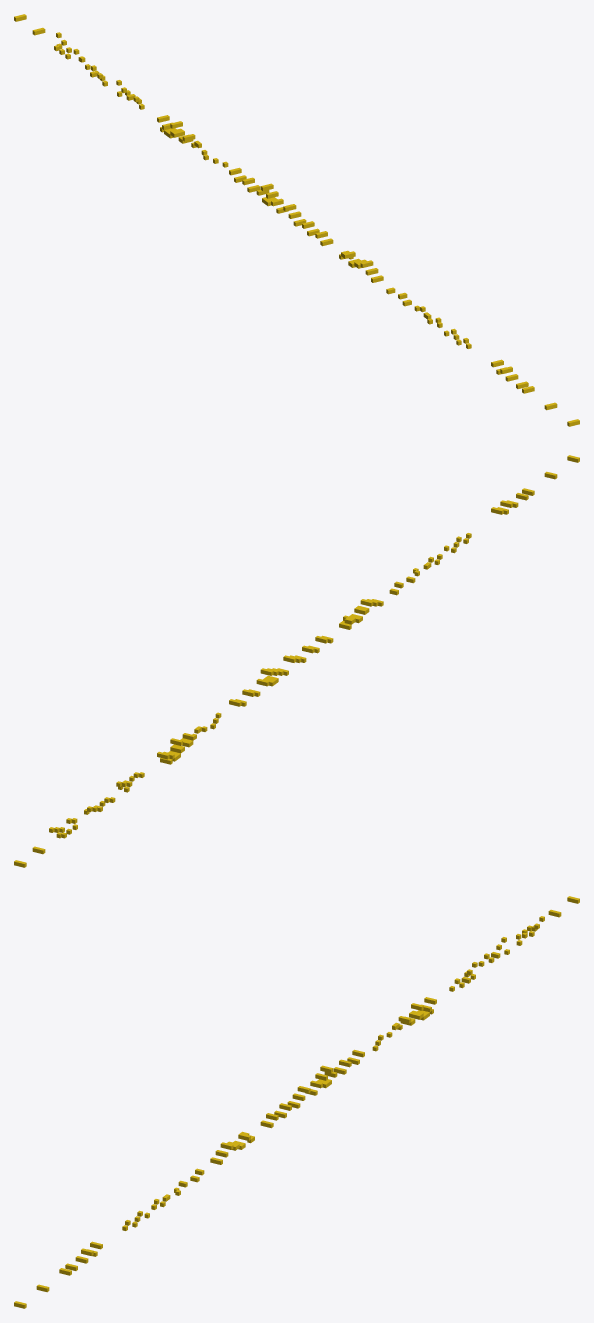
Rendered from Wall Lvl 2.fbx.
3 renders of one model, top to bottom at view 1: azimuth 30°, elevation 25°; view 2: azimuth 150°, elevation 25°; view 3: azimuth 330°, elevation 25°, orthographic.
Size of the model in its own units: 600 by 1000 by 54000.
